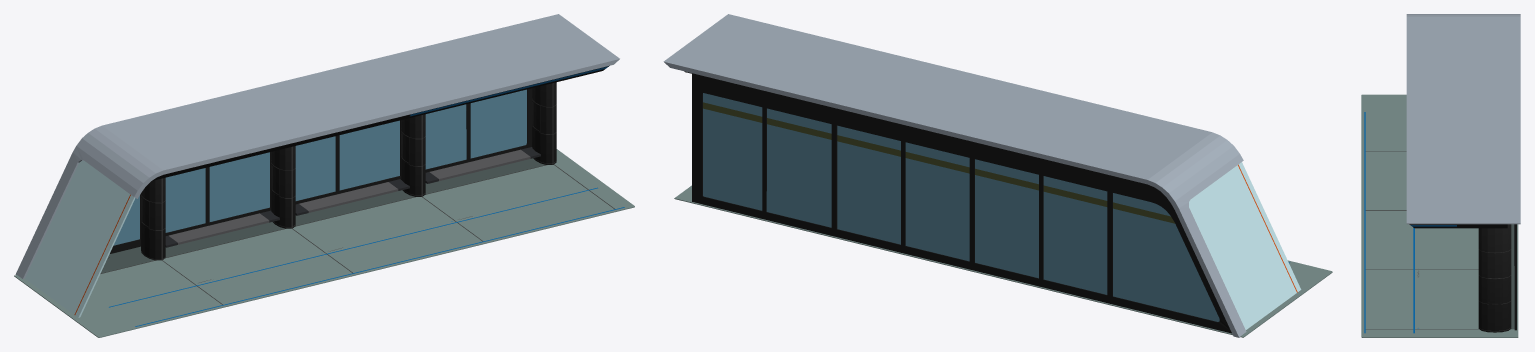
File: W_O_Busstop_002_L1.fbx
3 views of the same model, side by side, from view 1: azimuth 30°, elevation 25°; view 2: azimuth 150°, elevation 25°; view 3: azimuth 270°, elevation 25° (orthographic). The views are drawn at different scales.
Visible parts, largest first — view 1: W_O_Busstop_002_L1; view 2: W_O_Busstop_002_L1; view 3: W_O_Busstop_002_L1.
Boxes of the visible parts, box(x1,y1,x2,y2) form: W_O_Busstop_002_L1: box(14, 14, 634, 337); W_O_Busstop_002_L1: box(663, 14, 1332, 337); W_O_Busstop_002_L1: box(1361, 14, 1520, 337).
Bounding box in the file's own units: 29.57 × 8.06 × 6.66.
